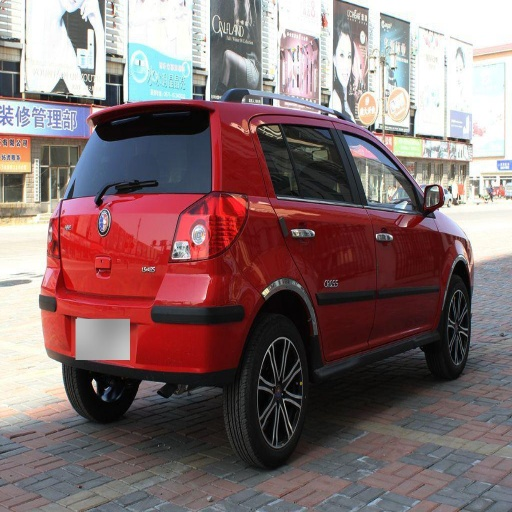back_bumper: (42, 255, 260, 381)
back_right_door: (256, 120, 376, 351)
trunk: (59, 197, 208, 320)
